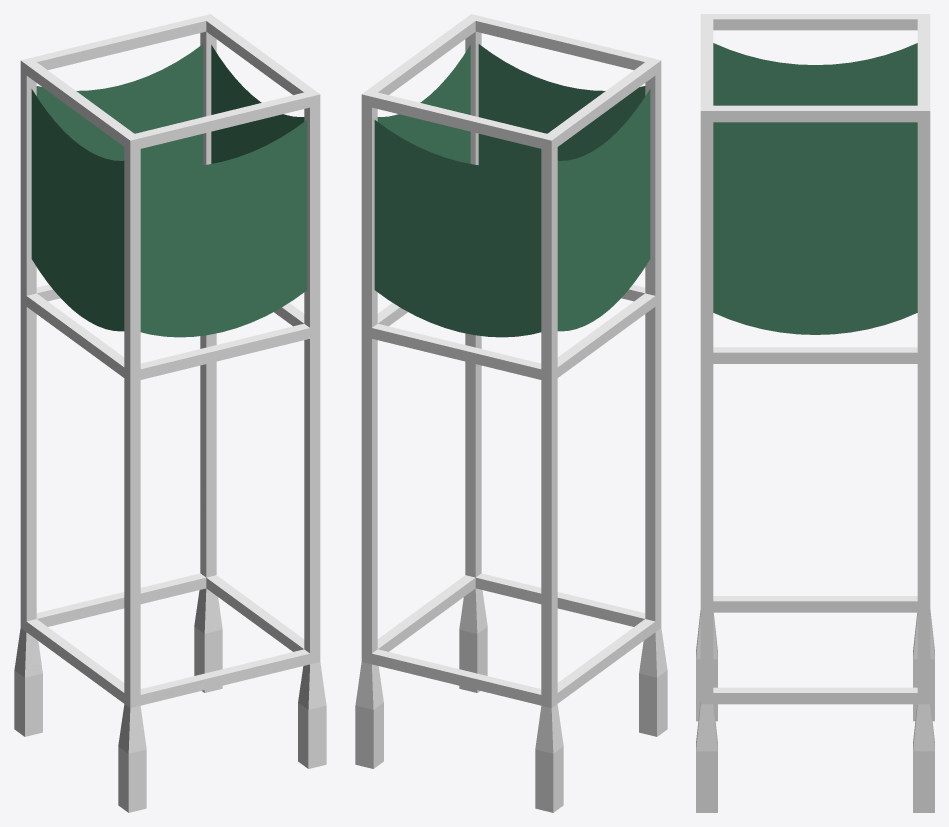
File: bannerTowerGreen.obj
3 renders of one model, left to right at view 1: azimuth 30°, elevation 25°; view 2: azimuth 150°, elevation 25°; view 3: azimuth 270°, elevation 25°, orthographic. The views are drawn at different scales.
Parts seen in each view (by area): view 1: bannerTowerGreen; view 2: bannerTowerGreen; view 3: bannerTowerGreen.
Boxes of the visible parts, x1,y1,x2,y2 form: bannerTowerGreen: (14,14,326,812); bannerTowerGreen: (355,14,667,812); bannerTowerGreen: (696,14,934,812).
Size of the model in its own units: 0.3852 by 1.25 by 0.3852.
